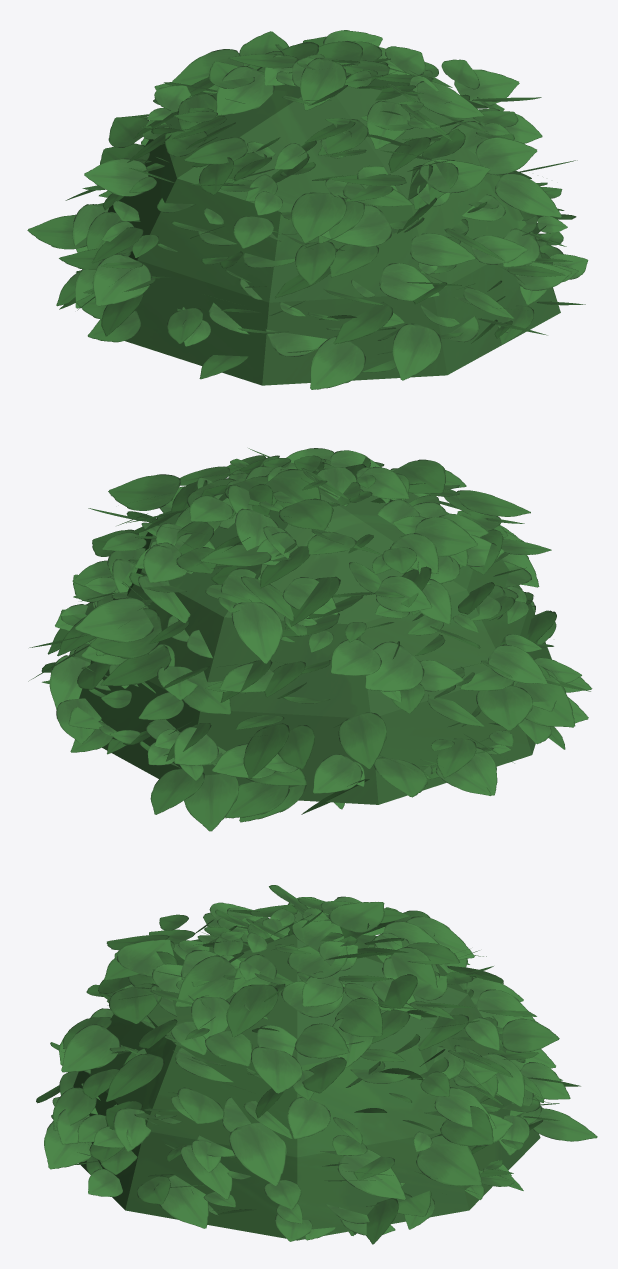
File: Krzak.fbx
3 views of the same model, one above another, from view 1: azimuth 30°, elevation 25°; view 2: azimuth 150°, elevation 25°; view 3: azimuth 270°, elevation 25° (orthographic). The views are drawn at different scales.
Visible parts, largest first — view 1: Krzak.001; view 2: Krzak.001; view 3: Krzak.001.
Part boxes in pixels (x1,y1,x2,y2): Krzak.001: (27,30,588,389); Krzak.001: (28,448,592,831); Krzak.001: (36,885,597,1244).
Bounding box in the file's own units: 181 × 85.41 × 180.
Materials: 1 (1 with a texture image).
